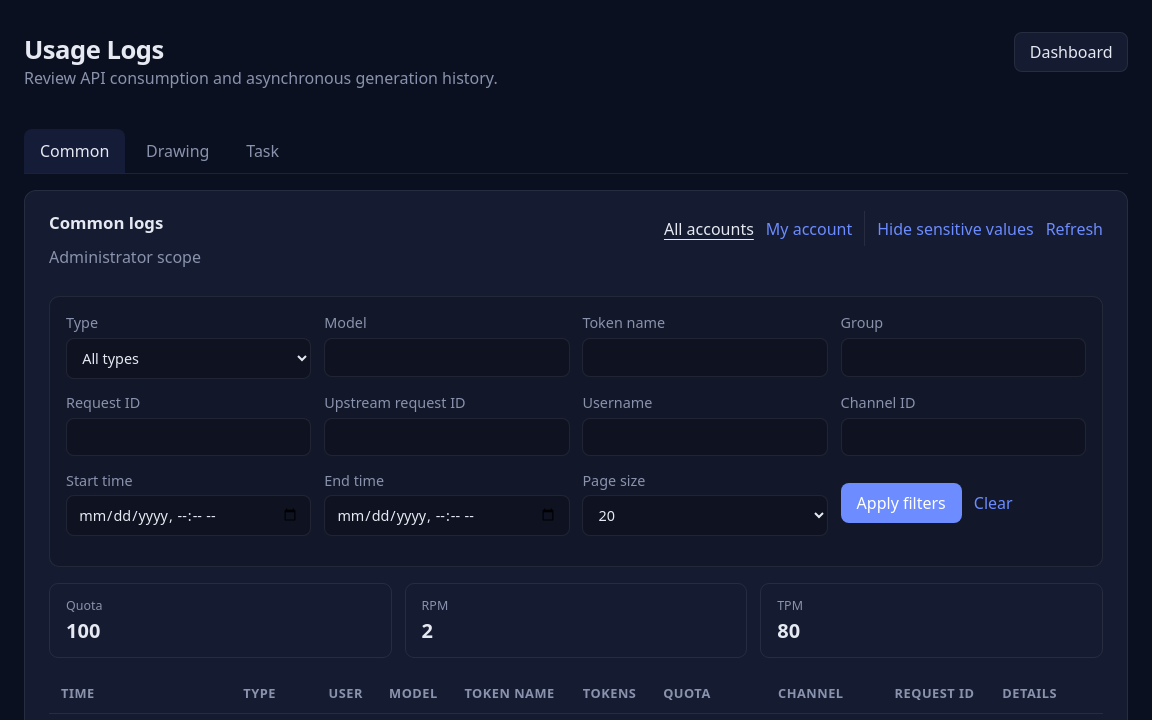
UsageLogsView › lets administrators switch atomically between all-account and self scope
Click the button "My account" at coordinates (809, 229), box x1=766 y1=211 x2=852 y2=246
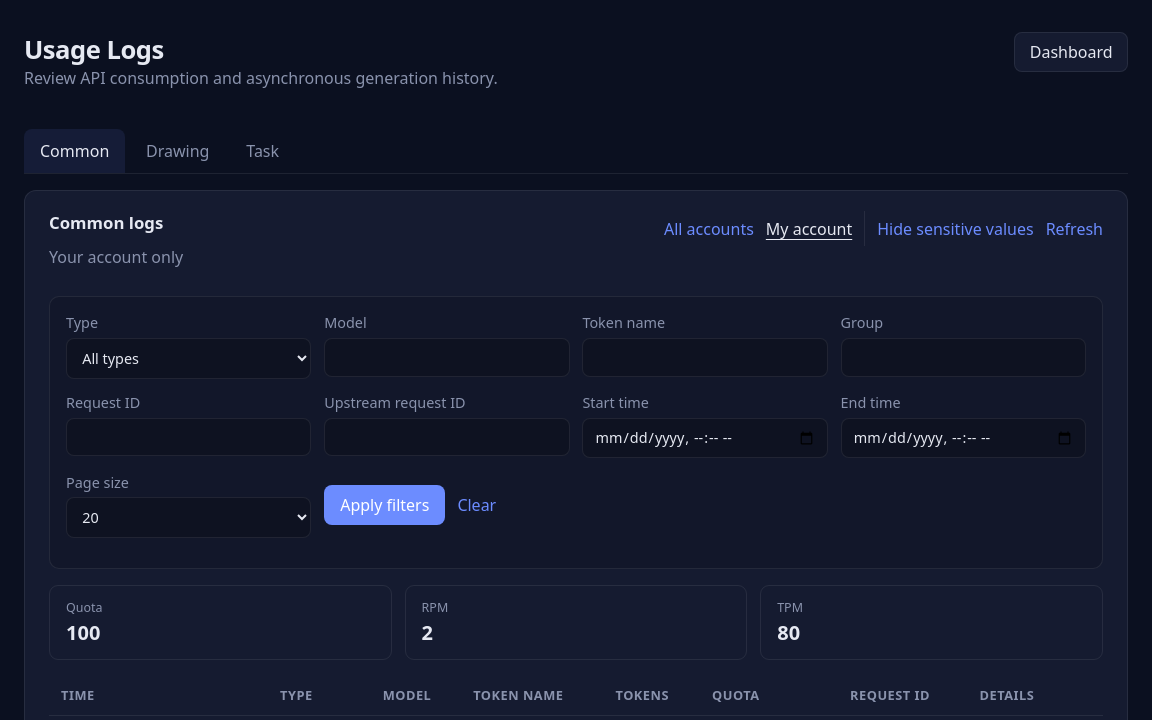
Check: the text "Your account only" is shown, box x1=49 y1=246 x2=183 y2=268
Check: the label labelled "Username" is gone
Check: the label "User" is gone
Click the button "All accounts" at coordinates (709, 229), box x1=664 y1=211 x2=754 y2=246
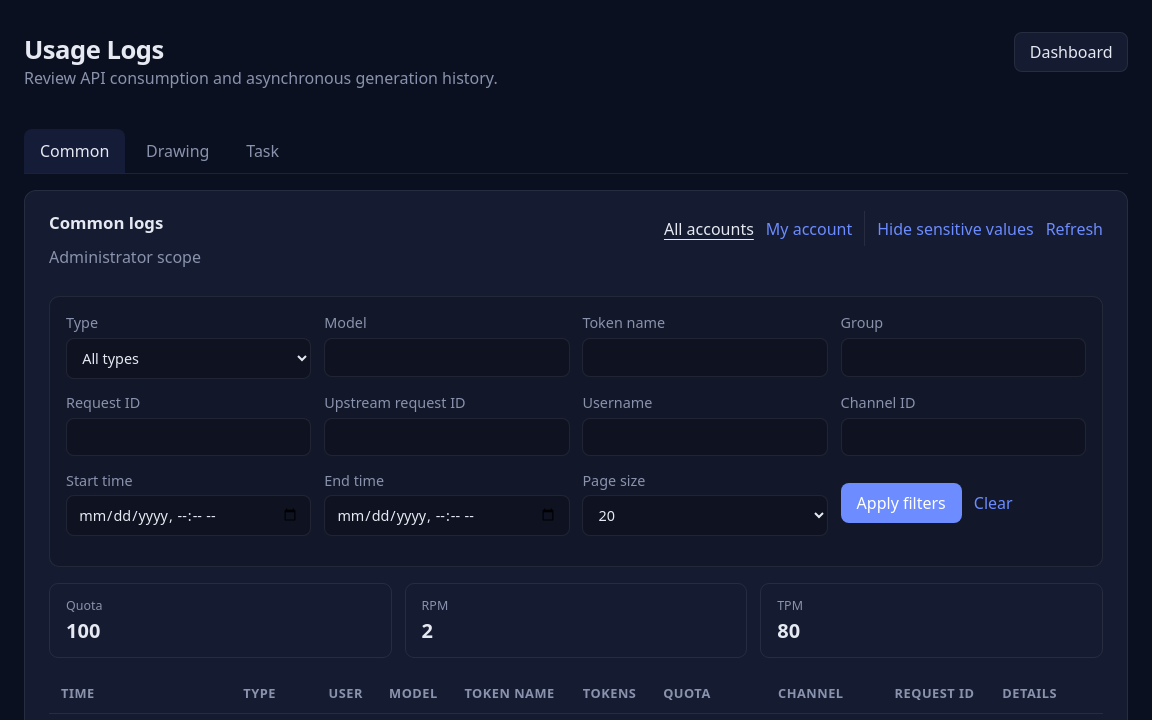
Check: the text "Administrator scope" is shown, box x1=49 y1=246 x2=201 y2=268
